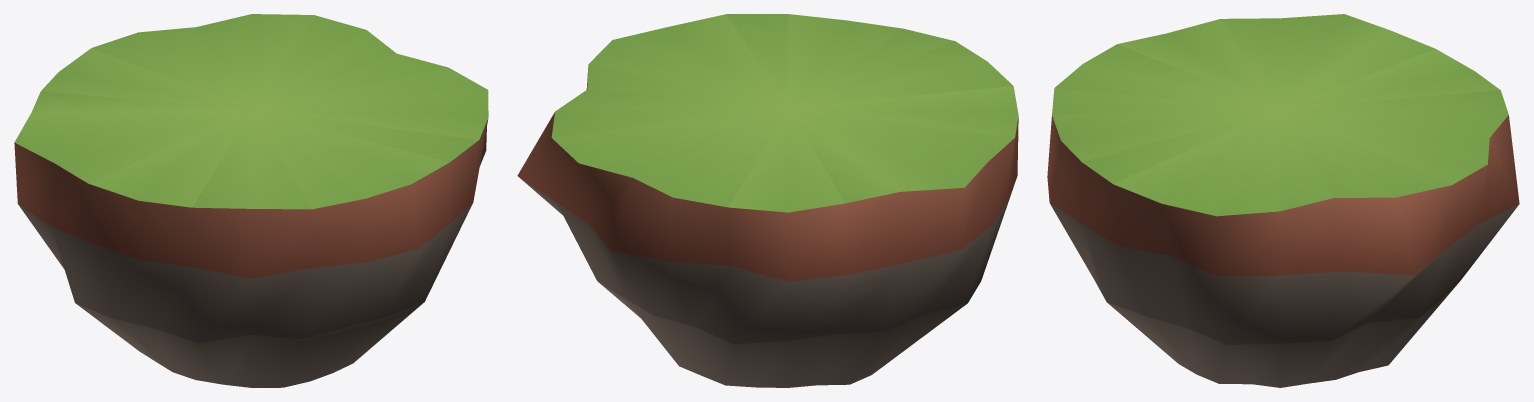
The model's file is islet_b.glb.
3 views of the same model, side by side, from view 1: azimuth 30°, elevation 25°; view 2: azimuth 150°, elevation 25°; view 3: azimuth 270°, elevation 25° (orthographic).
Visible parts, largest first — view 1: islet_b; view 2: islet_b; view 3: islet_b.
Boxes of the visible parts, x1=… form: islet_b: x1=14, y1=14, x2=488, y2=387; islet_b: x1=517, y1=14, x2=1018, y2=387; islet_b: x1=1047, y1=14, x2=1519, y2=387.
Bounding box in the file's own units: 18.76 × 11.5 × 18.6.
1 material, 1 textured.
